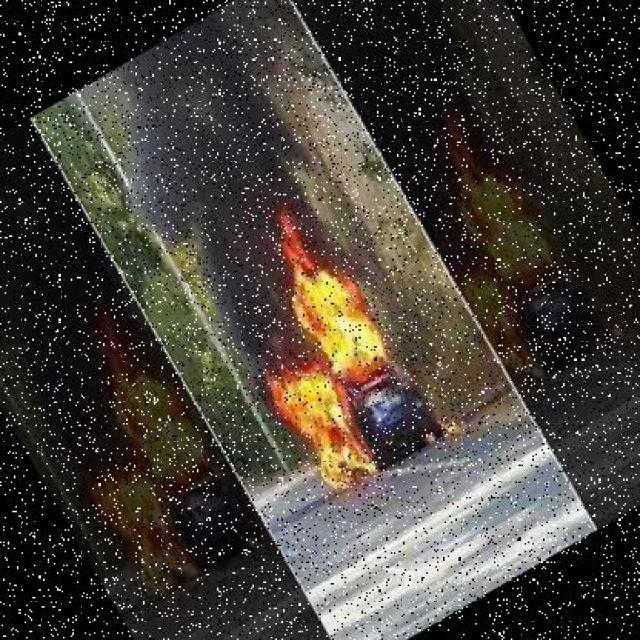fire: (262, 234, 416, 414), (245, 331, 392, 512)
